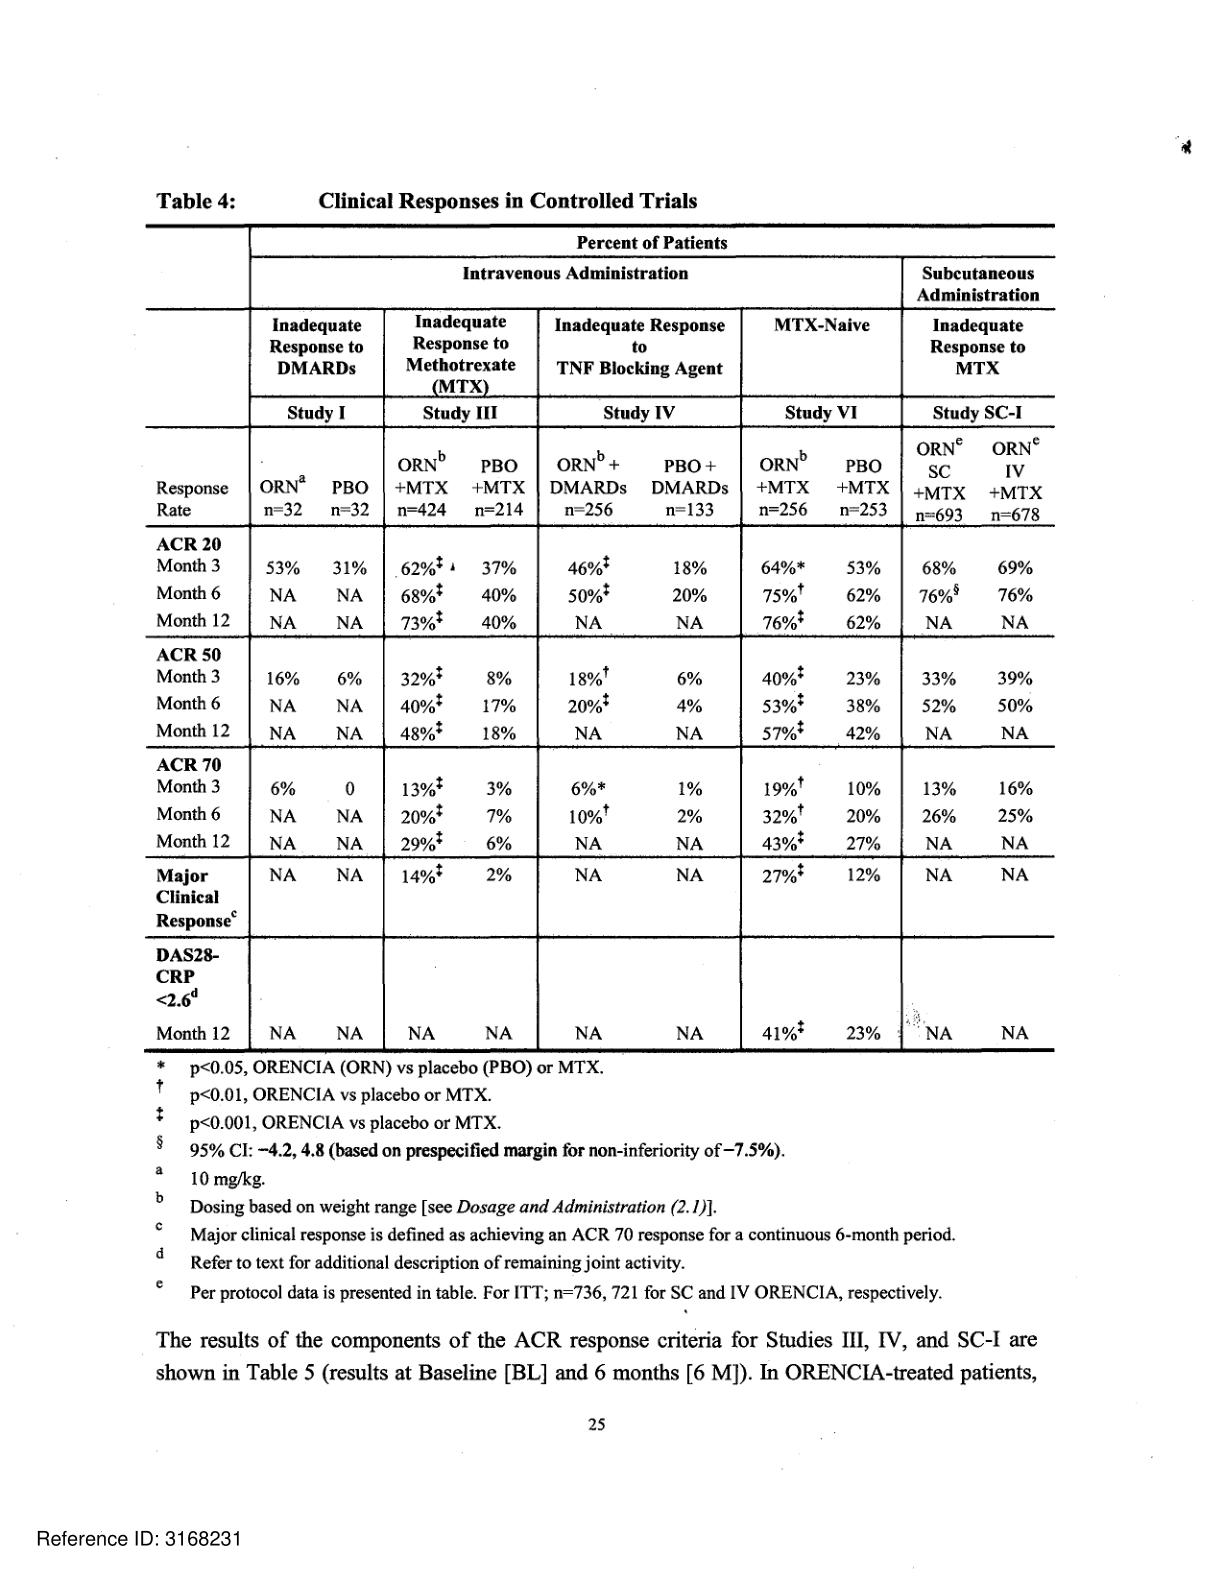partial_lined_merged_cells: (143, 220, 1058, 1057)
